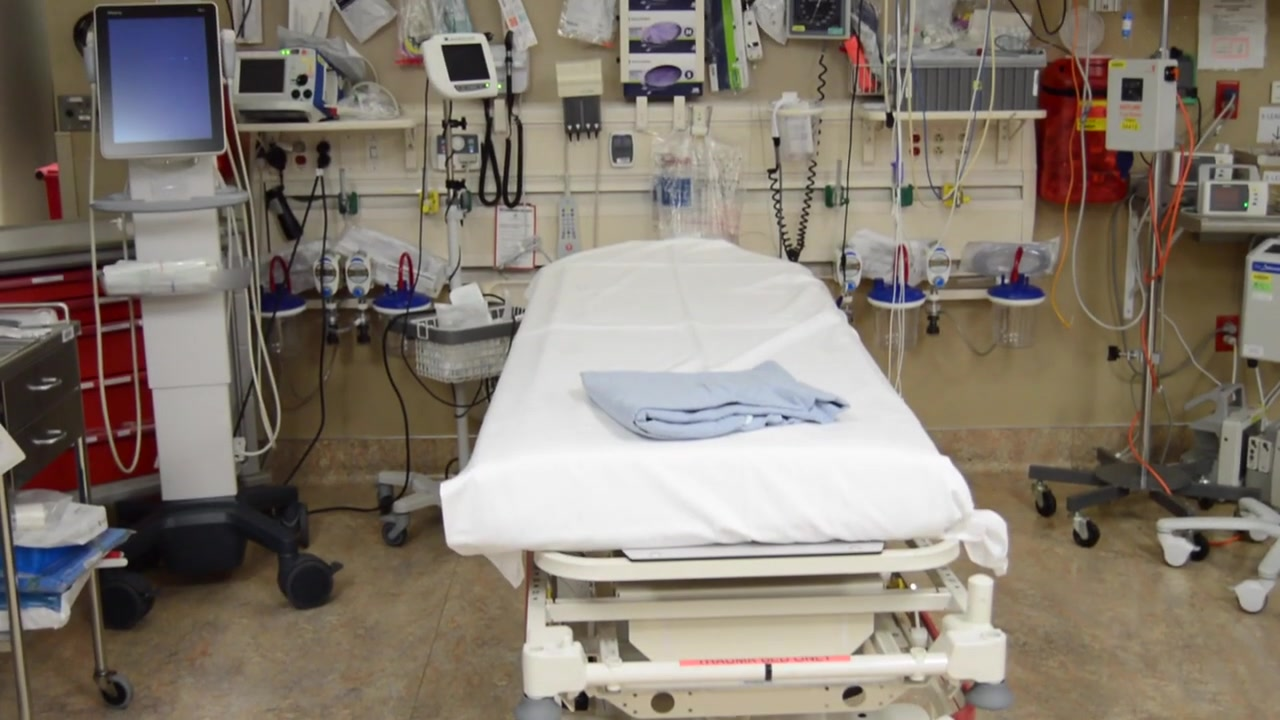bedside_monitor: (92, 1, 227, 160)
dispenser: (621, 1, 706, 100)
handle: (32, 429, 66, 445), (26, 377, 62, 392)
hospital_bed: (439, 234, 1007, 720)
iv_pole: (1132, 1, 1172, 472)
medical_drawer: (1, 220, 168, 493)
utility_cart: (1, 301, 136, 720)
